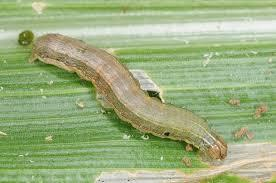fallarmy_worm: (25, 28, 237, 170)
